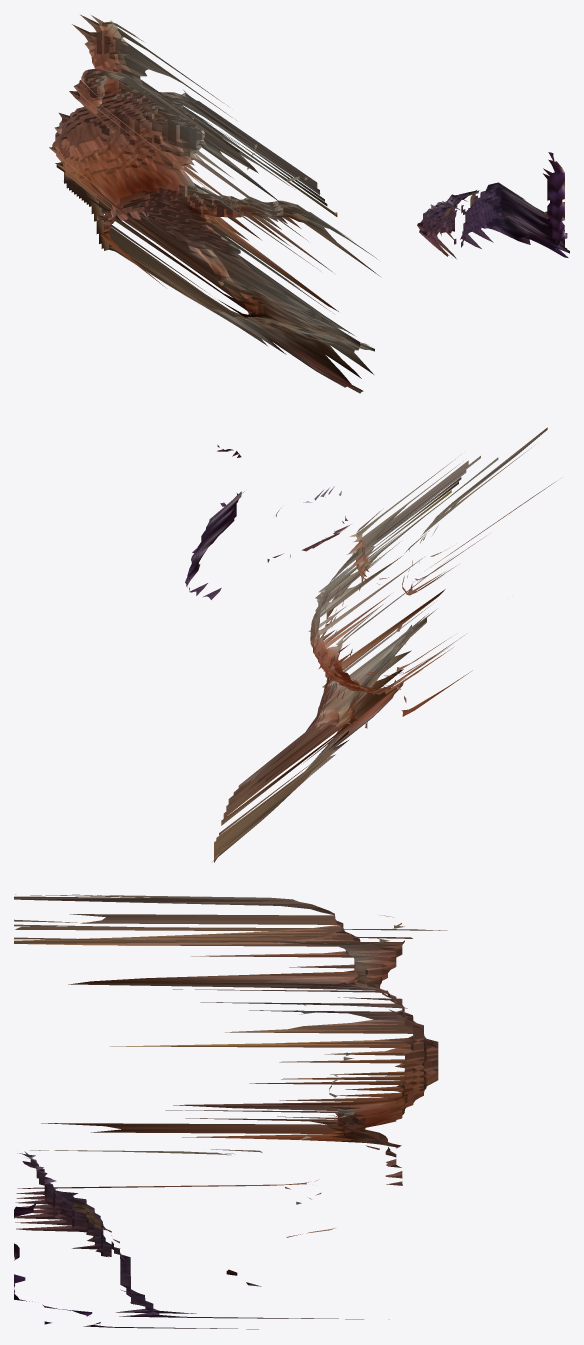
The model's file is frame_00312.glb.
3 renders of one model, top to bottom at view 1: azimuth 30°, elevation 25°; view 2: azimuth 150°, elevation 25°; view 3: azimuth 270°, elevation 25°, orthographic. The views are drawn at different scales.
Visible parts, largest first — view 1: geometry_0; view 2: geometry_0; view 3: geometry_0.
Boxes of the visible parts, <box> form: geometry_0: <box>49,14,569,393</box>; geometry_0: <box>185,427,556,862</box>; geometry_0: <box>14,894,447,1329</box>.
Size of the model in its own units: 0.1407 by 0.1144 by 0.16.
Materials: 1 (1 with a texture image).
